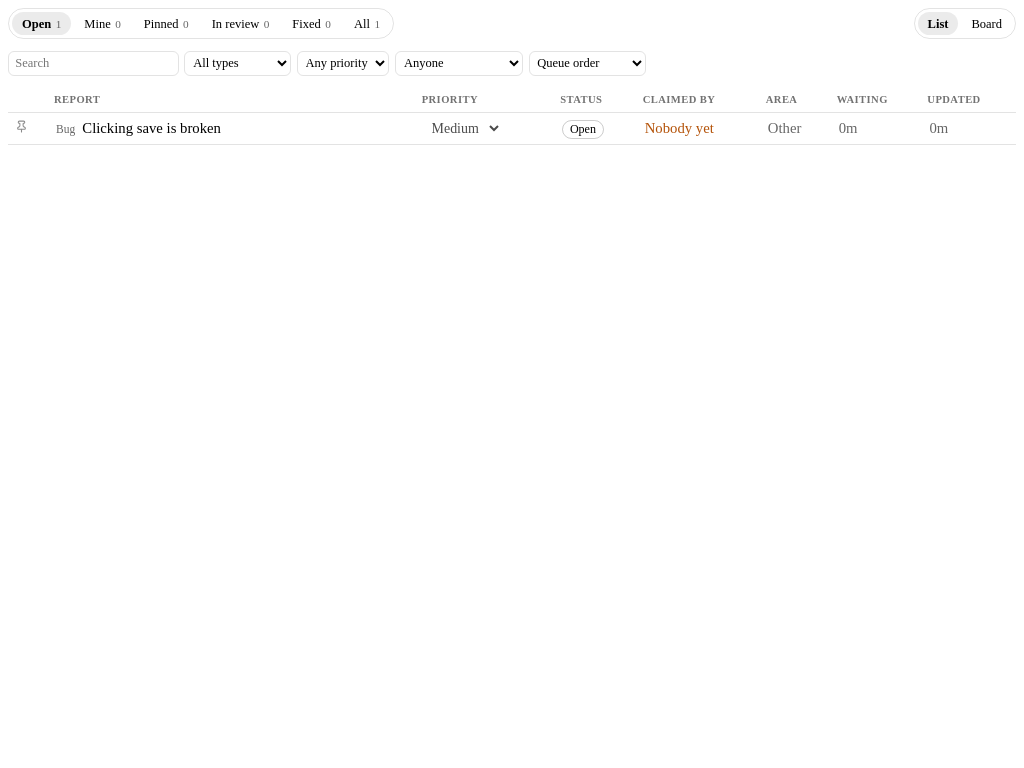
Scenario: CueLog drawer: Apply chips › viewers see the note but no chips
What coordinates should you click on to do the following:
click the button "Bug Clicking save is broken"
I would click on:
 (138, 128)
Its box is 56,118 -> 221,139.
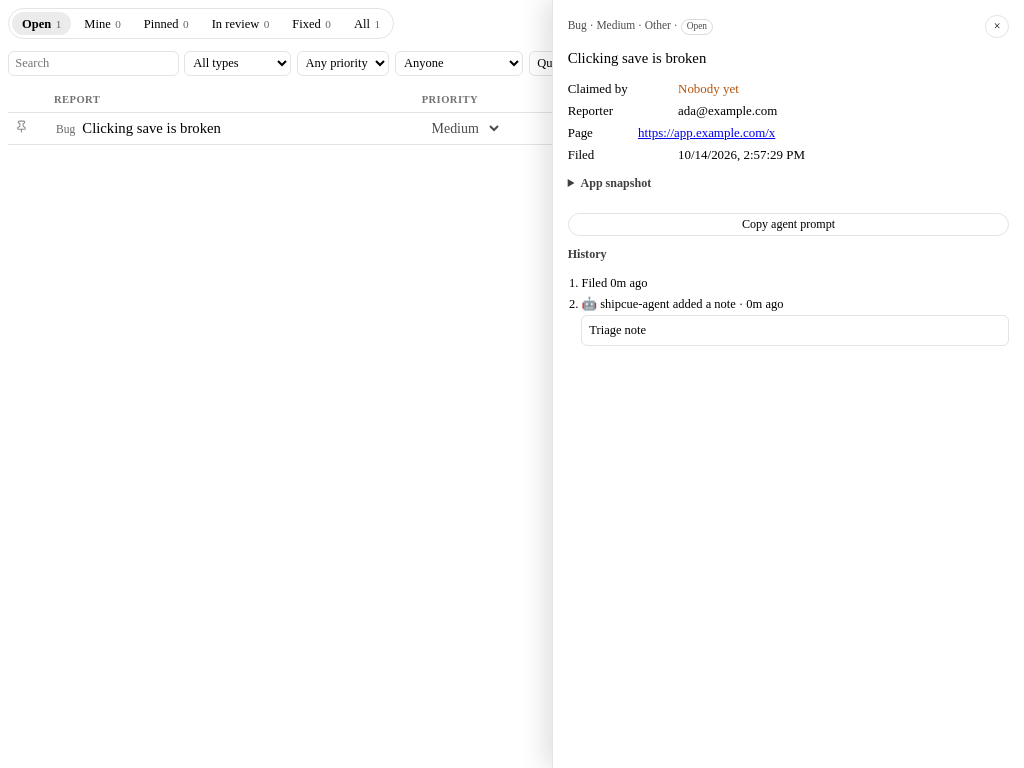
Expected: the text "Triage note" is shown, 581,315 -> 1009,346
